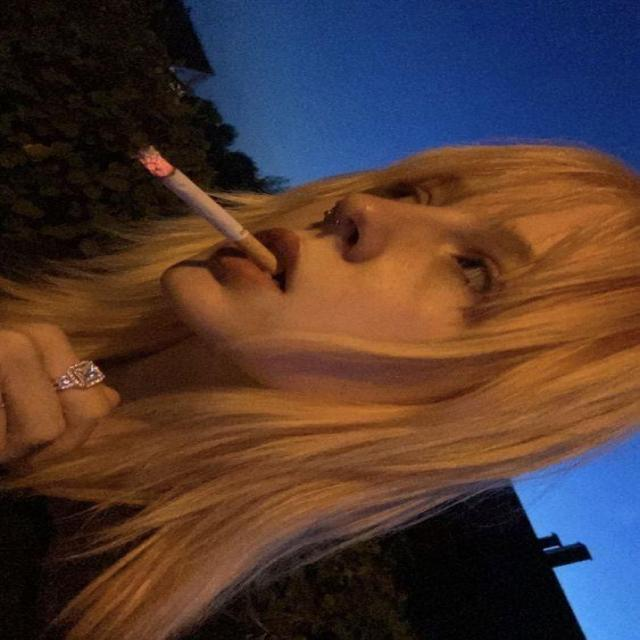cigarette: (110, 122, 297, 274)
